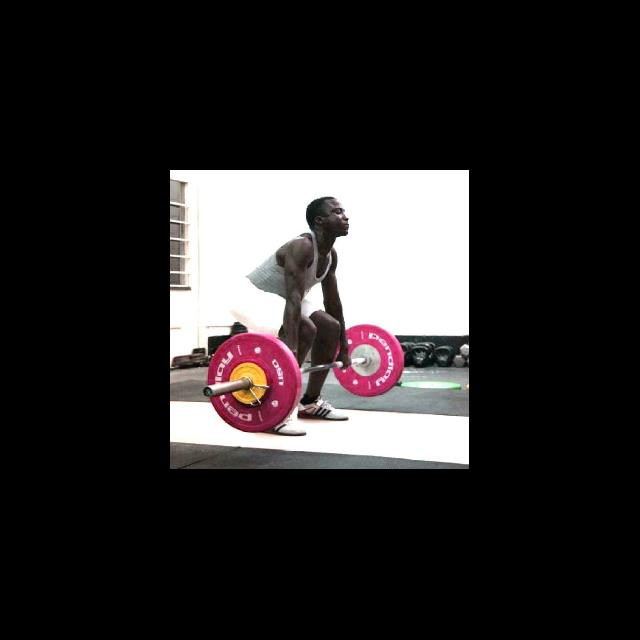barbell: (198, 332, 298, 433)
